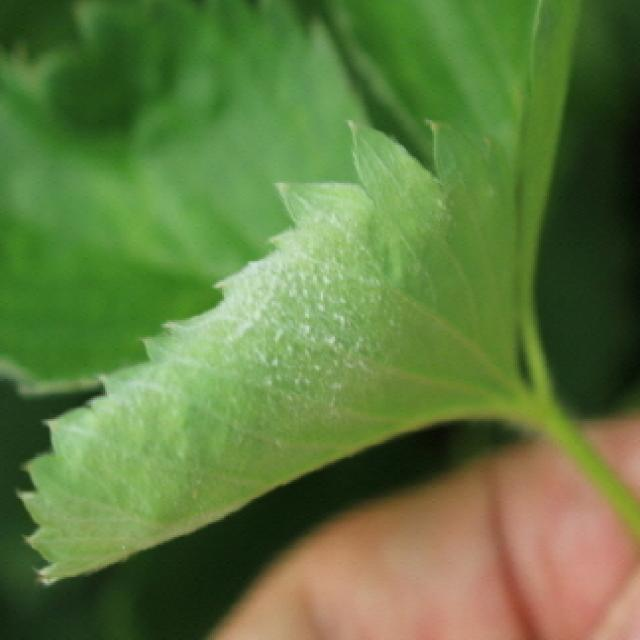Powdery Mildew Leaf: (13, 117, 538, 585)
